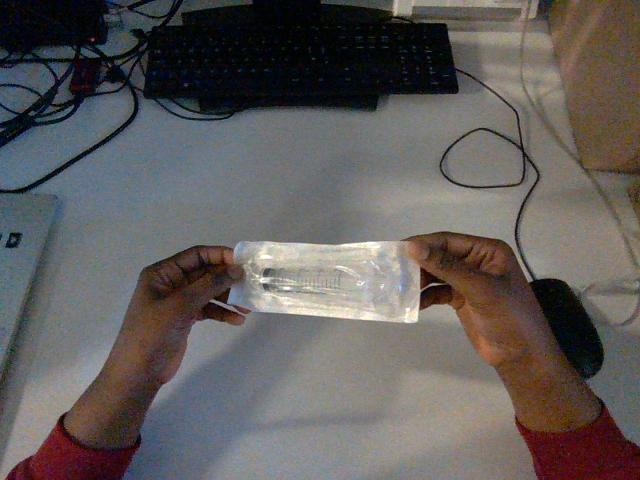syringe: (228, 241, 419, 322)
